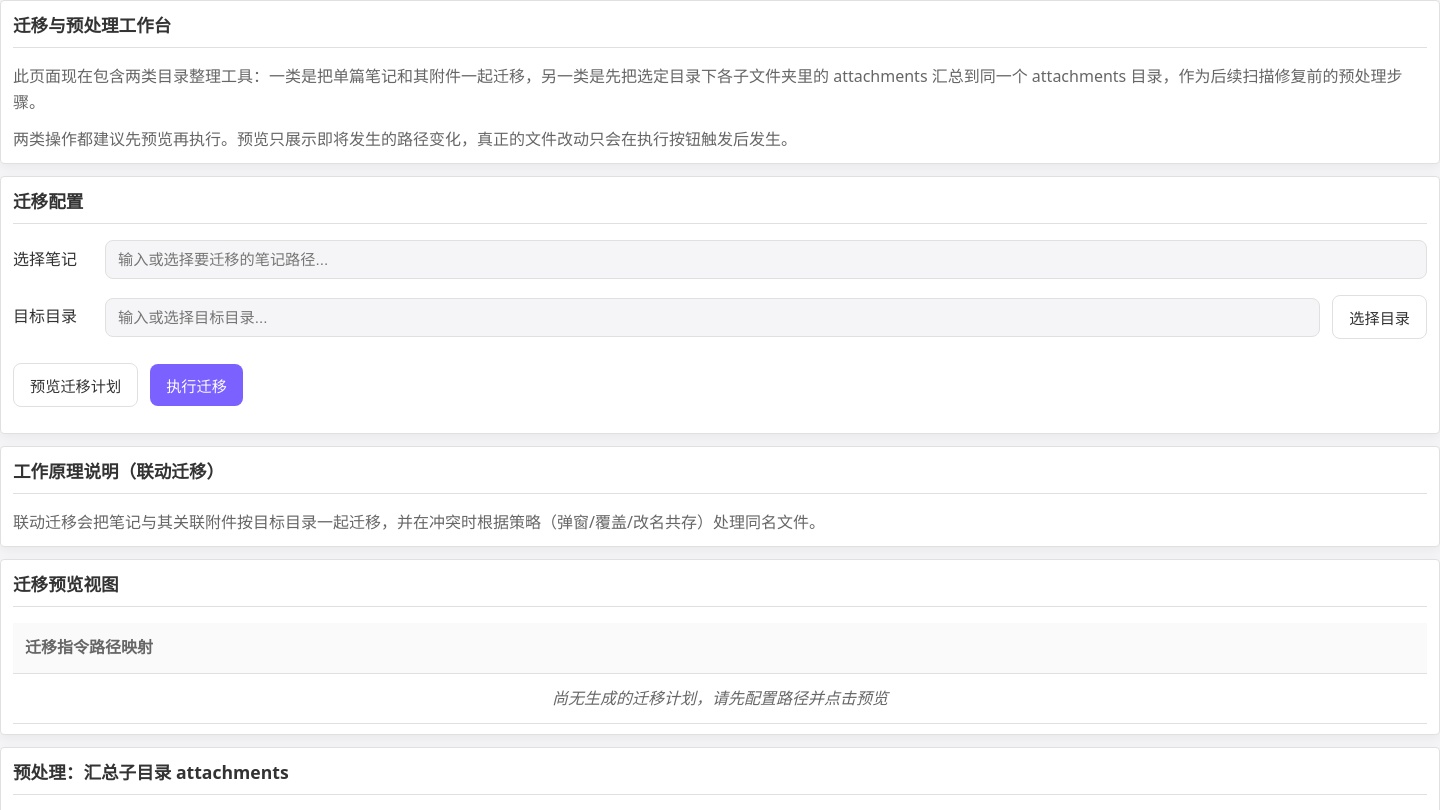
Test: preview plan requires both note path and target directory
Click the button "预览迁移计划": (76, 385) x1=13 y1=363 x2=138 y2=407
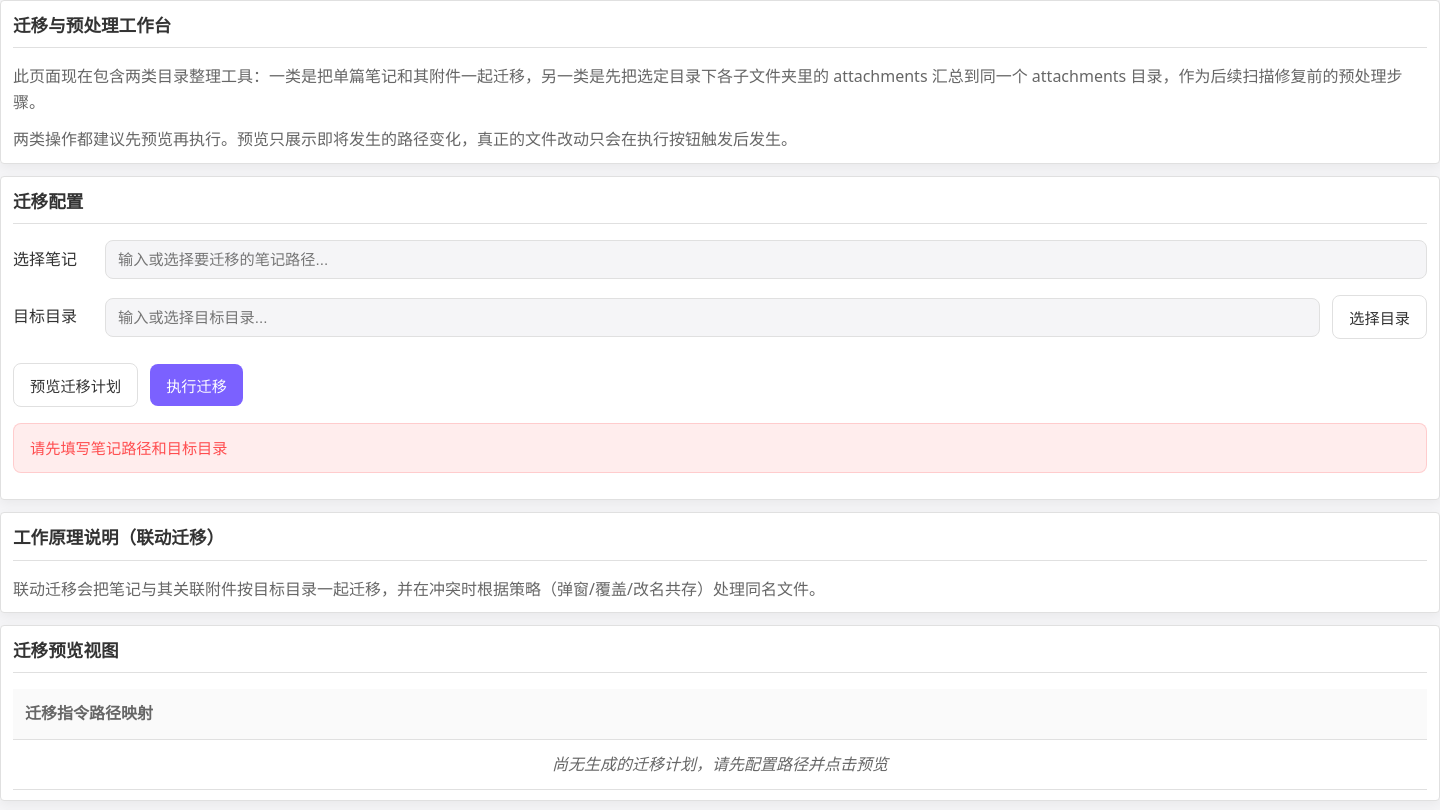
Now the text "请先填写笔记路径和目标目录" is shown, box x1=13 y1=423 x2=1427 y2=473
